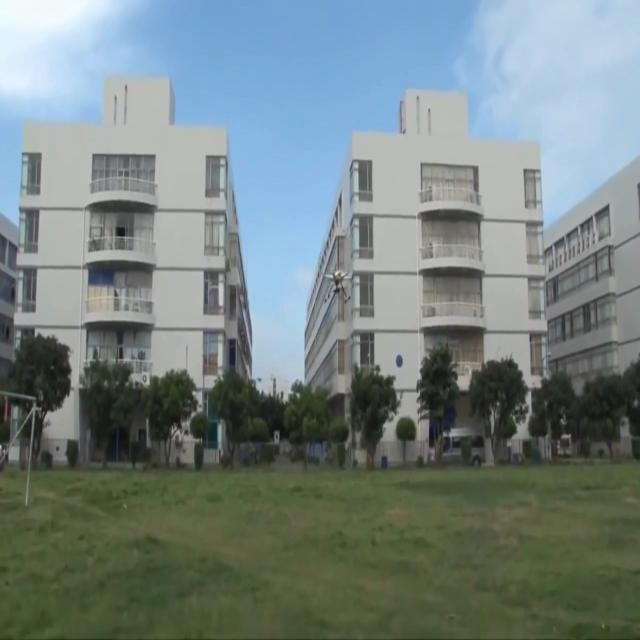drone: (323, 268, 351, 302)
